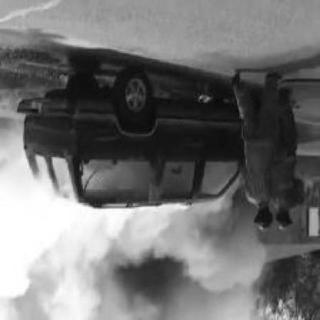Smoke: (2, 170, 264, 319)
